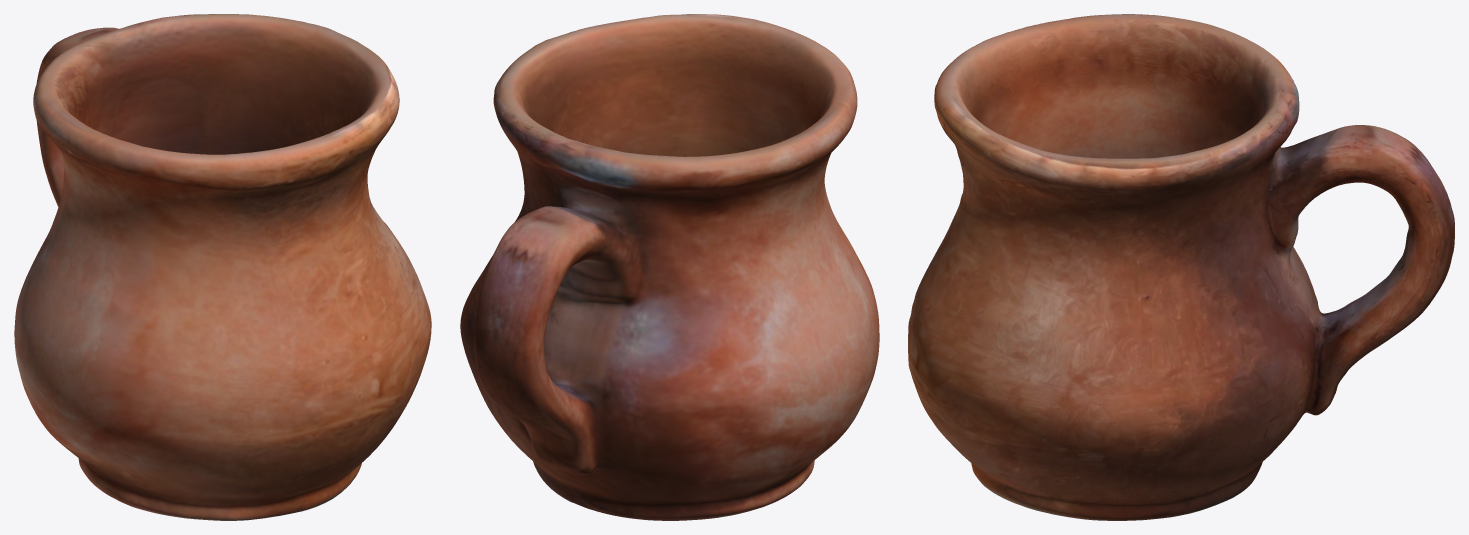
The model's file is barro_mug.glb.
The picture shows the model from 3 angles, left to right: view 1: azimuth 30°, elevation 25°; view 2: azimuth 150°, elevation 25°; view 3: azimuth 270°, elevation 25°; orthographic projection.
Parts seen in each view (by area): view 1: tripo_node_43a1f438-c61d-474a-84d4-b573c46fc115; view 2: tripo_node_43a1f438-c61d-474a-84d4-b573c46fc115; view 3: tripo_node_43a1f438-c61d-474a-84d4-b573c46fc115.
Boxes of the visible parts, x1,y1,x2,y2 form: tripo_node_43a1f438-c61d-474a-84d4-b573c46fc115: (14,14,431,520); tripo_node_43a1f438-c61d-474a-84d4-b573c46fc115: (460,14,879,520); tripo_node_43a1f438-c61d-474a-84d4-b573c46fc115: (908,14,1454,520).
Bounding box in the file's own units: 0.563 × 0.5609 × 0.7255.
1 material, 1 textured.
